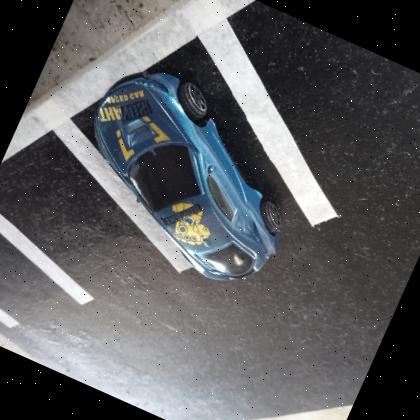Car: (92, 70, 282, 281)
